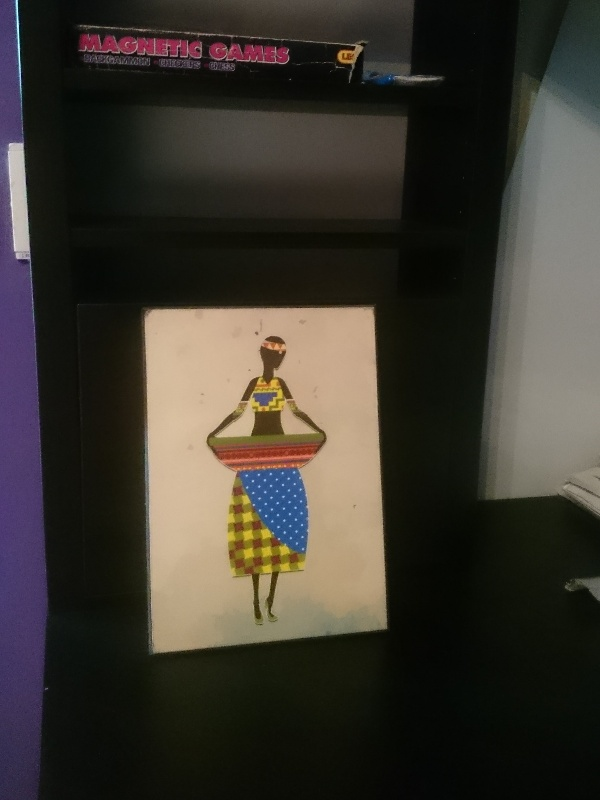my image: (151, 308, 379, 652)
